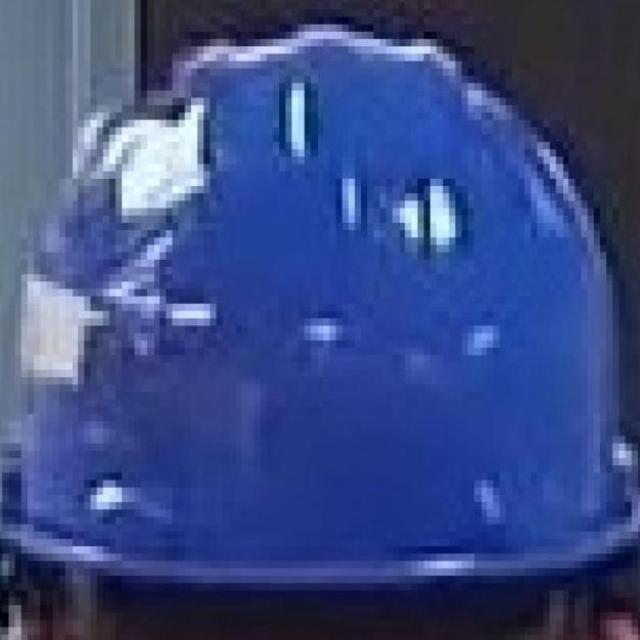blue helmet: (24, 51, 640, 584)
